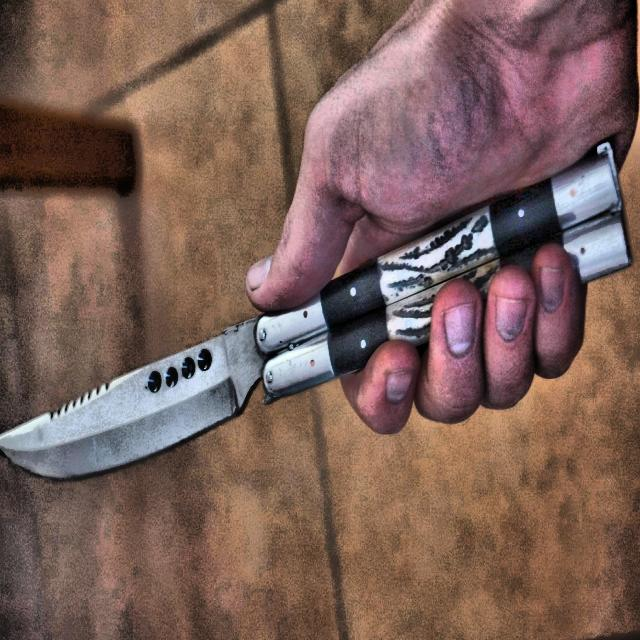knife: (0, 150, 632, 478)
